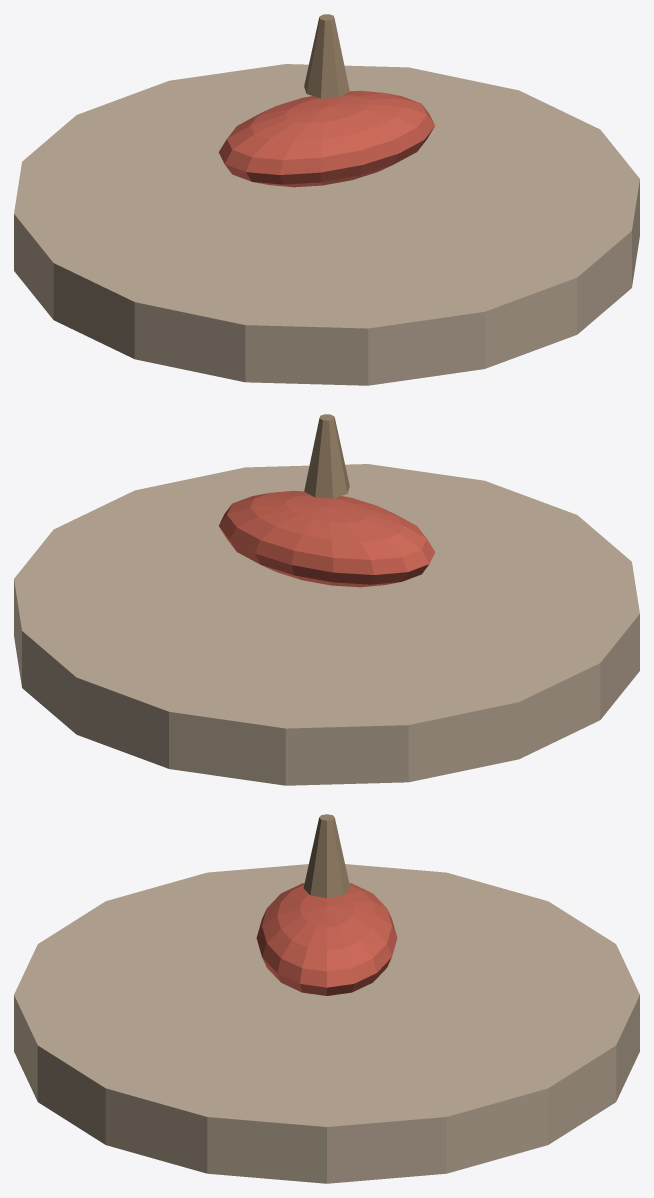
Rendered from seedstage_apple_backup.glb.
The picture shows the model from 3 angles, top to bottom: view 1: azimuth 30°, elevation 25°; view 2: azimuth 150°, elevation 25°; view 3: azimuth 270°, elevation 25°; orthographic projection.
Visible parts, largest first — view 1: AppleSeed_Base, AppleSeed_Main, AppleSeed_Stem; view 2: AppleSeed_Base, AppleSeed_Main, AppleSeed_Stem; view 3: AppleSeed_Base, AppleSeed_Main, AppleSeed_Stem.
Boxes of the visible parts, x1,y1,x2,y2 form: AppleSeed_Base: (14,64,639,385); AppleSeed_Main: (218,90,434,187); AppleSeed_Stem: (304,14,349,98); AppleSeed_Base: (14,464,639,785); AppleSeed_Main: (219,490,435,587); AppleSeed_Stem: (304,414,349,498); AppleSeed_Base: (14,864,639,1183); AppleSeed_Main: (256,883,397,995); AppleSeed_Stem: (303,814,350,898).
Bounding box in the file's own units: 0.8 × 0.33 × 0.8.
